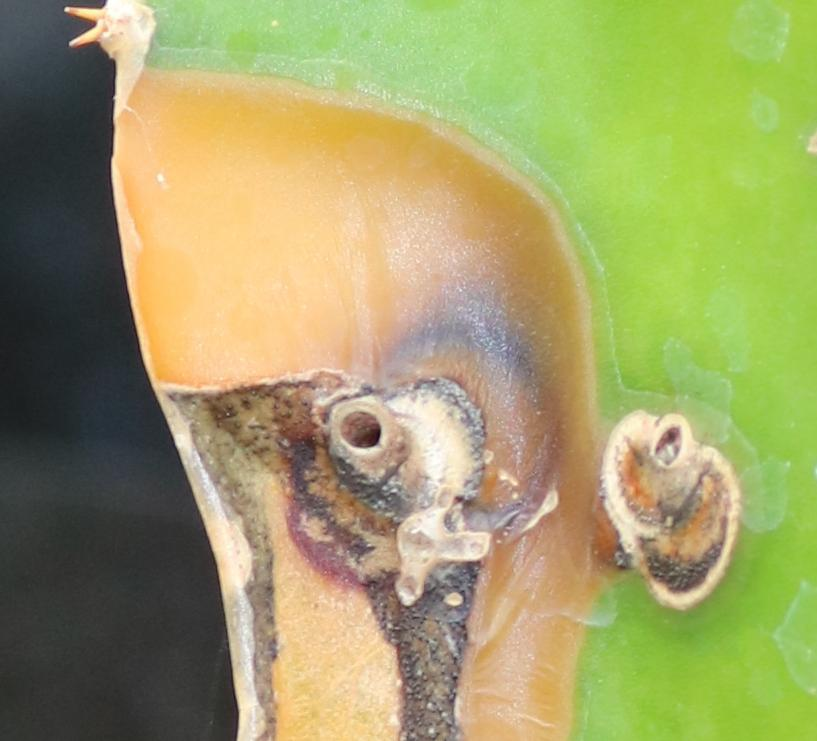stemcanker: (86, 50, 742, 735)
